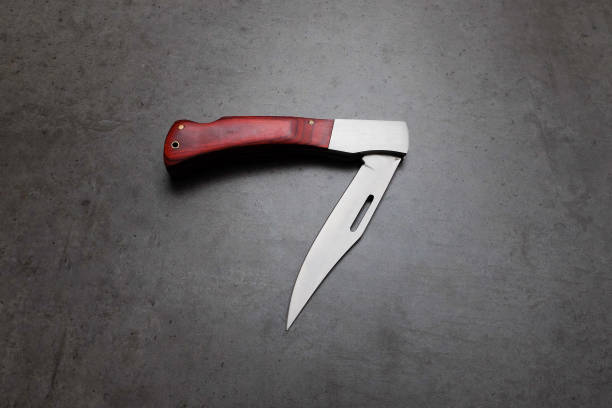knife: (160, 110, 414, 336)
